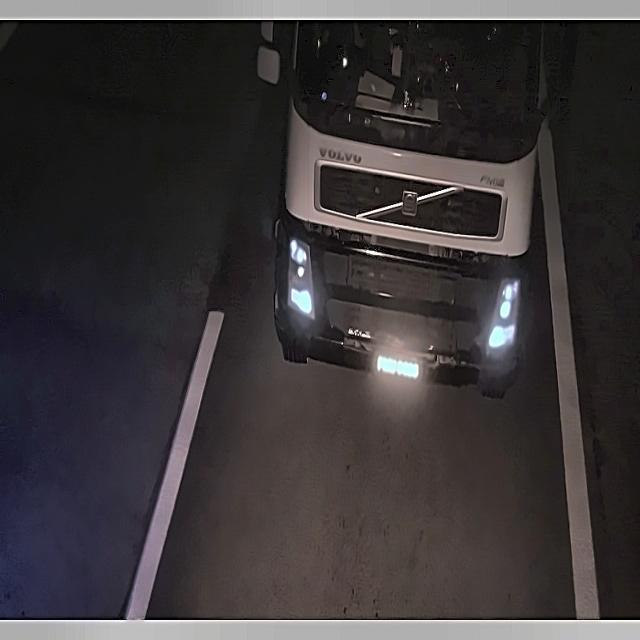car: (369, 344, 428, 394)
